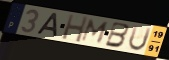3: (20, 8, 41, 34)
A: (35, 12, 59, 39)
B: (104, 21, 131, 50)
H: (61, 13, 90, 44)
M: (79, 18, 111, 45)
U: (127, 25, 153, 53)
